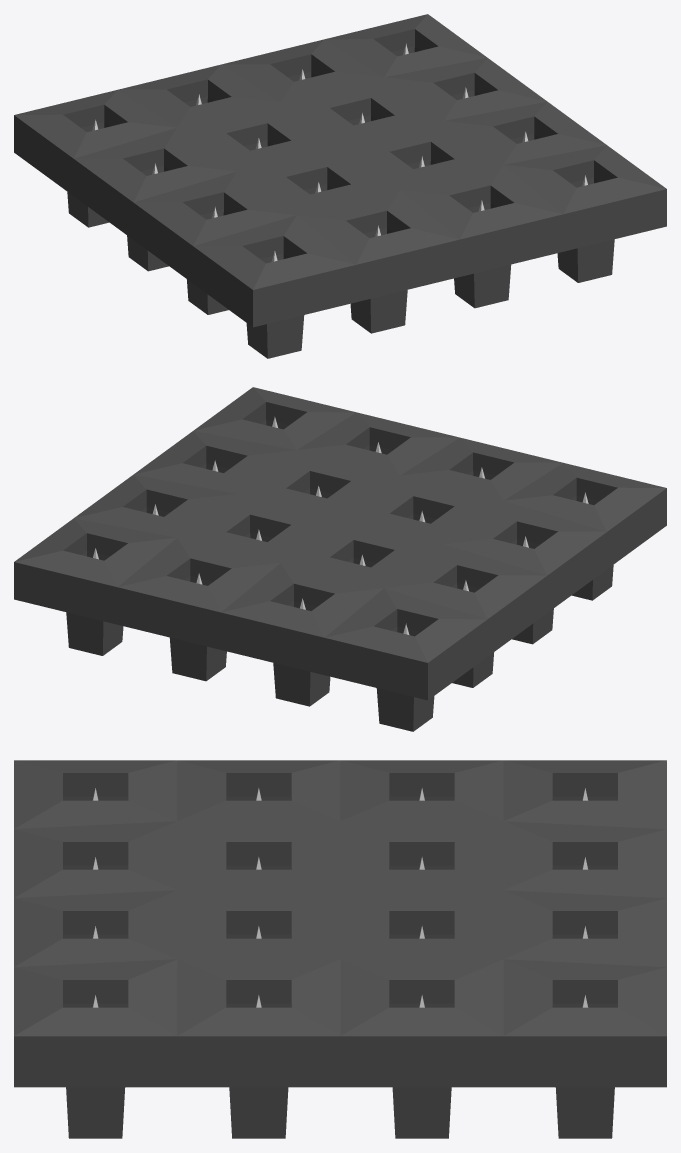
The model's file is spiketrap.glb.
The picture shows the model from 3 angles, top to bottom: view 1: azimuth 30°, elevation 25°; view 2: azimuth 150°, elevation 25°; view 3: azimuth 270°, elevation 25°; orthographic projection. The views are drawn at different scales.
Visible parts, largest first — view 1: TrapSpikes, TrapSpikes1; view 2: TrapSpikes, TrapSpikes1; view 3: TrapSpikes, TrapSpikes1.
Boxes of the visible parts, x1=… form: TrapSpikes: x1=14, y1=14, x2=666, y2=358; TrapSpikes1: x1=92, y1=43, x2=587, y2=261; TrapSpikes: x1=14, y1=387, x2=666, y2=731; TrapSpikes1: x1=93, y1=416, x2=588, y2=634; TrapSpikes: x1=14, y1=760, x2=666, y2=1138; TrapSpikes1: x1=92, y1=788, x2=588, y2=1007.
Bounding box in the file's own units: 6 × 1.36 × 6.
1 material, 1 textured.
